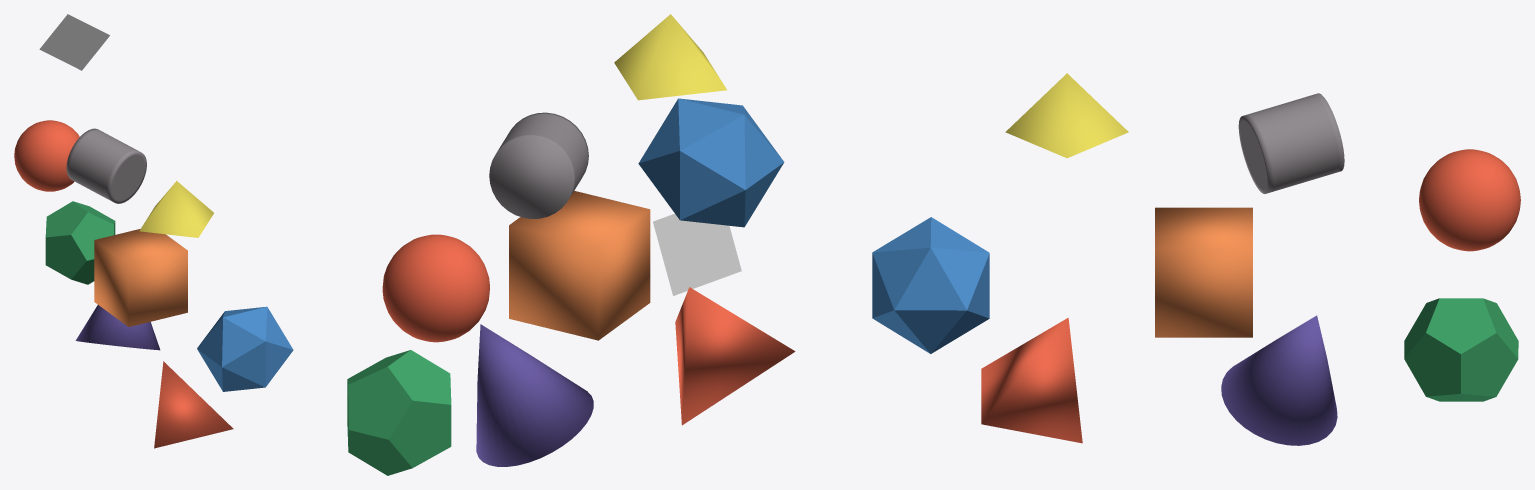
File: ussseee.glb
The picture shows the model from 3 angles, left to right: view 1: azimuth 30°, elevation 25°; view 2: azimuth 150°, elevation 25°; view 3: azimuth 270°, elevation 25°; orthographic projection. The views are drawn at different scales.
Visible parts, largest first — view 1: Cube, instance_3, Cylinder, instance_4, Sphere, Cone.001, Cone.002, Plane.001, Cone; view 2: Cube, instance_3, Cone, instance_4, Sphere, Cone.001, Cylinder, Cone.002, Plane; view 3: Cube, instance_3, Cone, instance_4, Cone.001, Sphere, Cylinder, Cone.002.
Part boxes in pixels (<box>): Cube: <box>94,229,187,326</box>; instance_3: <box>197,306,293,391</box>; Cylinder: <box>66,128,146,203</box>; instance_4: <box>45,201,115,284</box>; Sphere: <box>14,120,79,191</box>; Cone.001: <box>154,361,233,448</box>; Cone.002: <box>139,181,213,237</box>; Plane.001: <box>39,14,109,70</box>; Cone: <box>75,305,160,350</box>; Cube: <box>509,191,650,340</box>; instance_3: <box>638,98,784,227</box>; Cone: <box>476,324,593,466</box>; instance_4: <box>347,350,451,475</box>; Sphere: <box>382,234,489,342</box>; Cone.001: <box>675,287,795,425</box>; Cylinder: <box>489,112,588,218</box>; Cone.002: <box>614,14,726,100</box>; Plane: <box>653,213,741,295</box>; Cube: <box>1155,207,1252,337</box>; instance_3: <box>872,217,989,353</box>; Cone: <box>1221,315,1337,445</box>; instance_4: <box>1404,298,1518,401</box>; Cone.001: <box>981,317,1082,443</box>; Sphere: <box>1419,149,1520,251</box>; Cylinder: <box>1238,93,1344,193</box>; Cone.002: <box>1005,73,1128,158</box>.
Bounding box in the file's own units: 2.81 × 6.69 × 9.18.
